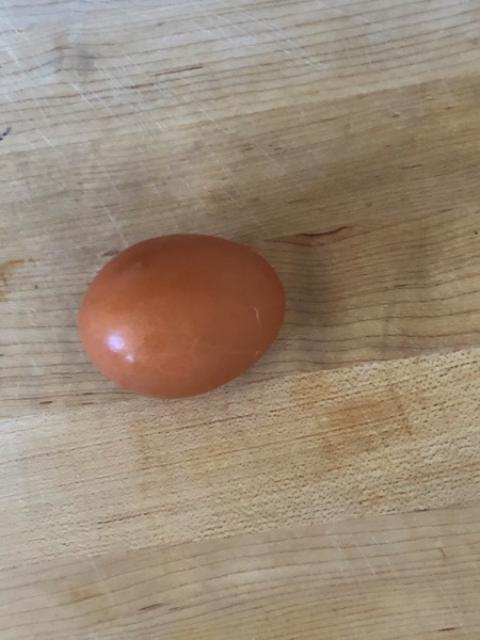Roto: (77, 230, 286, 400)
